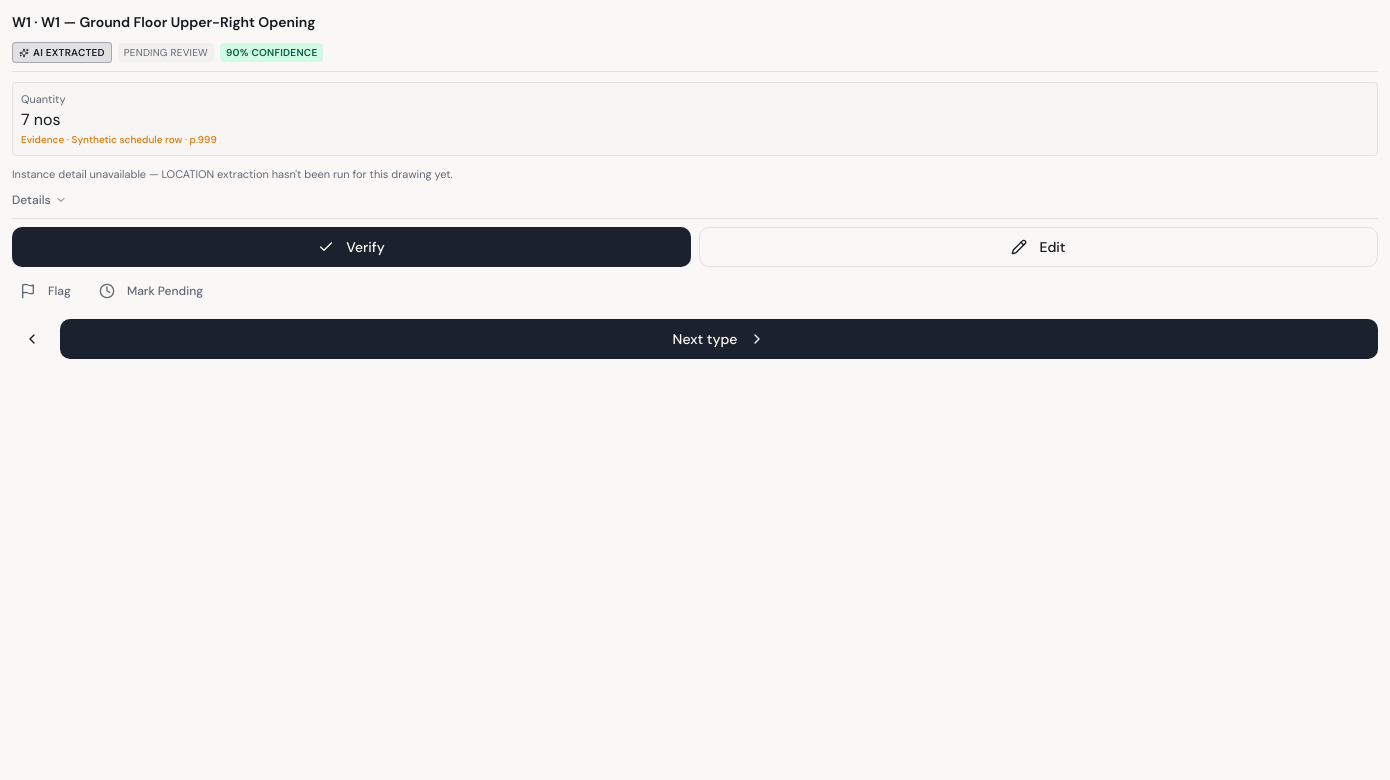
Test: ItemPanel — claim selection › shows the evidence source and page in the link text
Click the button "Details": click(39, 200) [12, 192, 67, 208]
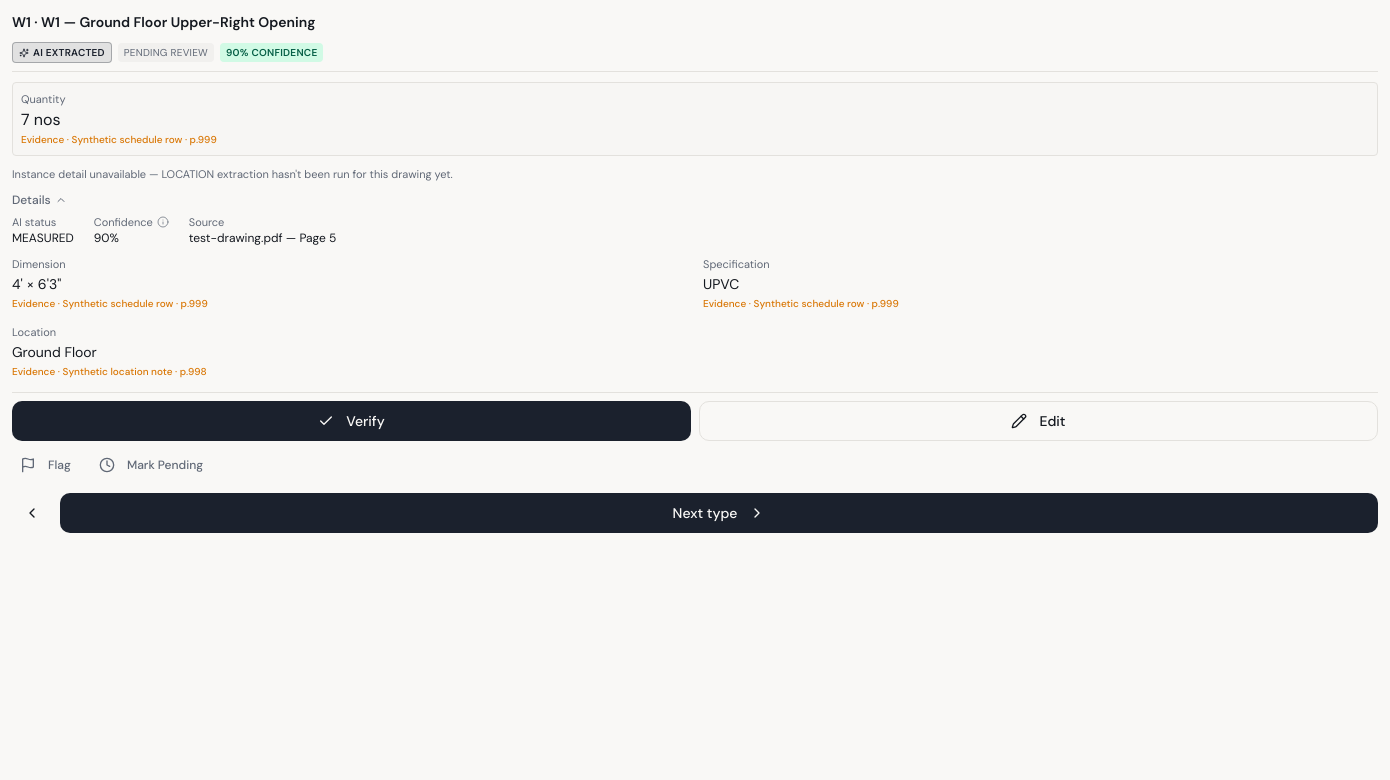
Check: the number of buttons "Evidence · Synthetic schedule row · p.999" is 3, box [21, 132, 217, 146]; [12, 294, 208, 314]; [703, 294, 899, 314]
Check: the button "Evidence · Synthetic location note · p.998" is shown, box [12, 362, 207, 382]
